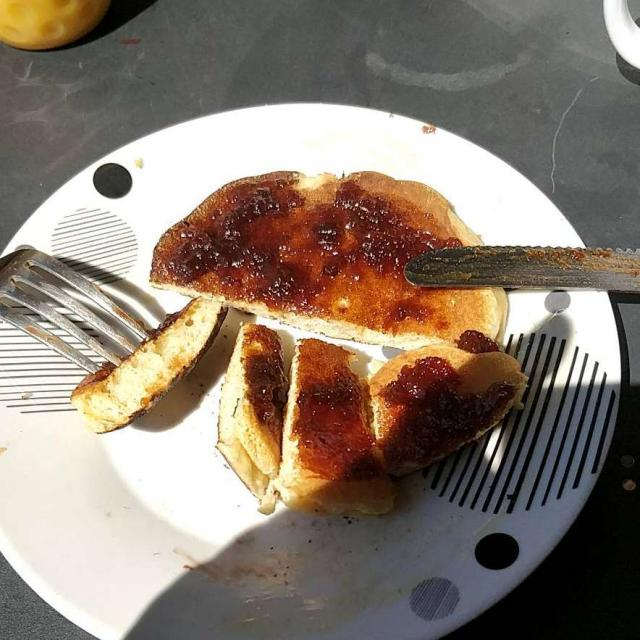jam: (165, 192, 477, 469)
pancakes: (58, 175, 538, 503)
